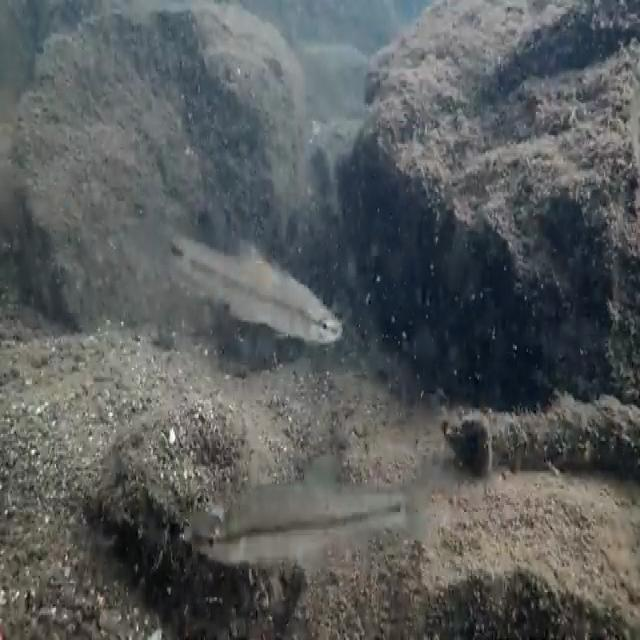Cakil Baligi: (138, 193, 344, 356), (186, 459, 446, 574)
